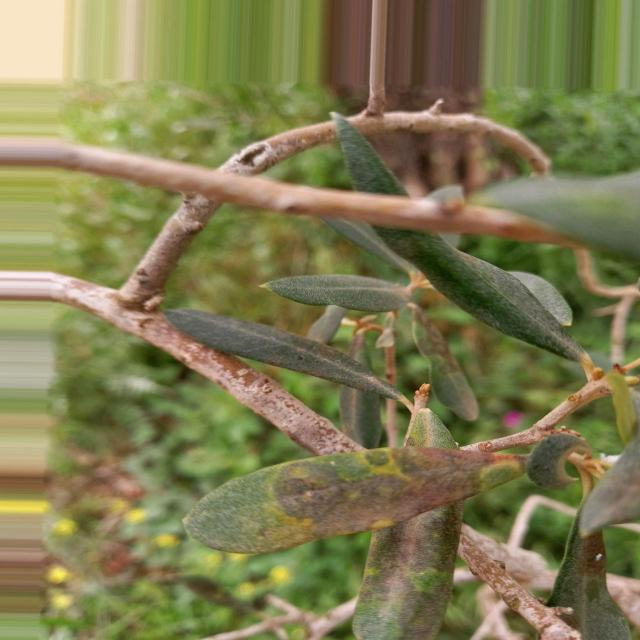Peacock Eye: (184, 448, 524, 554), (352, 503, 464, 640), (411, 306, 478, 421)
